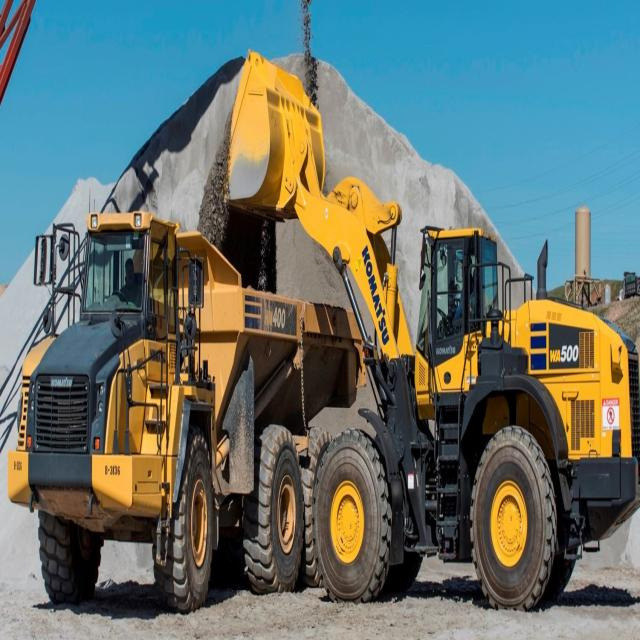buldozerpayloadergrader: (220, 35, 640, 639)
dump_truck: (8, 207, 371, 626)
